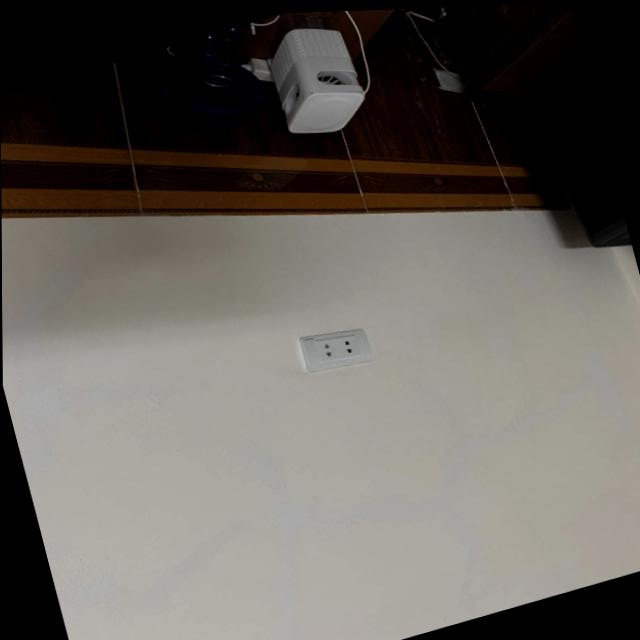outlet: (298, 318, 375, 378)
